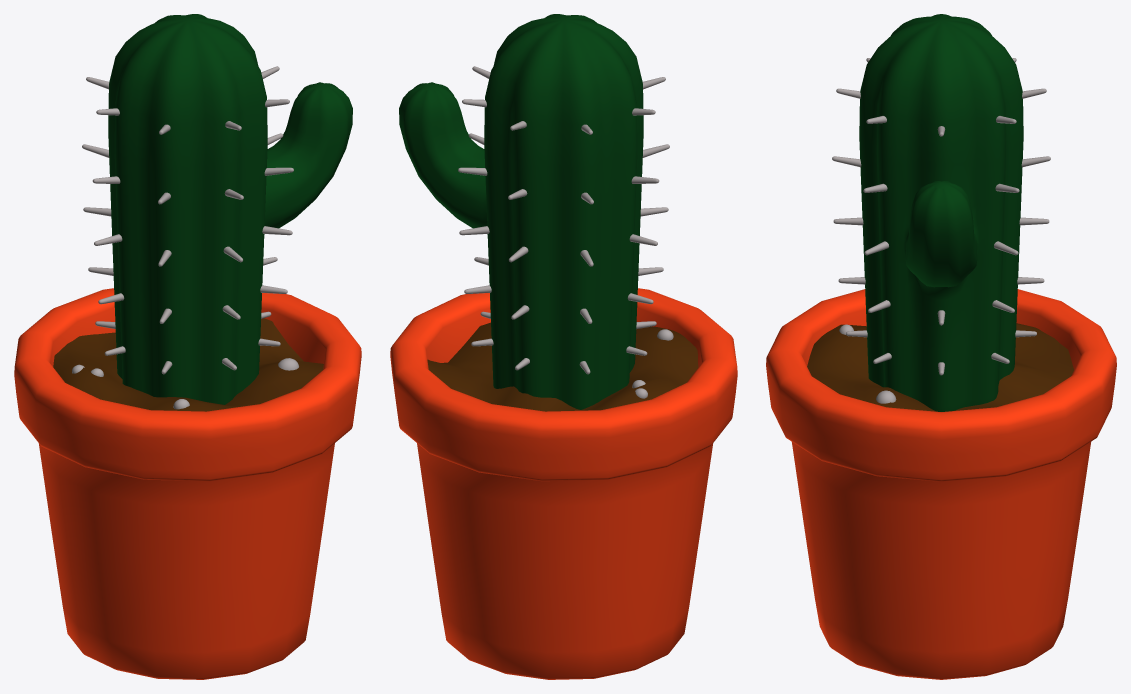
Rendered from Cactus 1.fbx.
3 renders of one model, left to right at view 1: azimuth 30°, elevation 25°; view 2: azimuth 150°, elevation 25°; view 3: azimuth 270°, elevation 25°, orthographic.
Visible parts, largest first — view 1: pot, cactus_2, dirt; view 2: pot, cactus_2, dirt; view 3: pot, cactus_2, dirt.
Part boxes in pixels (<box>): pot: <box>14,288,361,679</box>; cactus_2: <box>108,14,352,404</box>; dirt: <box>53,318,323,411</box>; pot: <box>390,288,737,679</box>; cactus_2: <box>399,14,643,409</box>; dirt: <box>427,322,698,411</box>; pot: <box>766,289,1116,679</box>; cactus_2: <box>859,14,1023,411</box>; dirt: <box>807,323,1073,411</box>.
Bounding box in the file's own units: 1.54 × 2.9 × 1.51.
